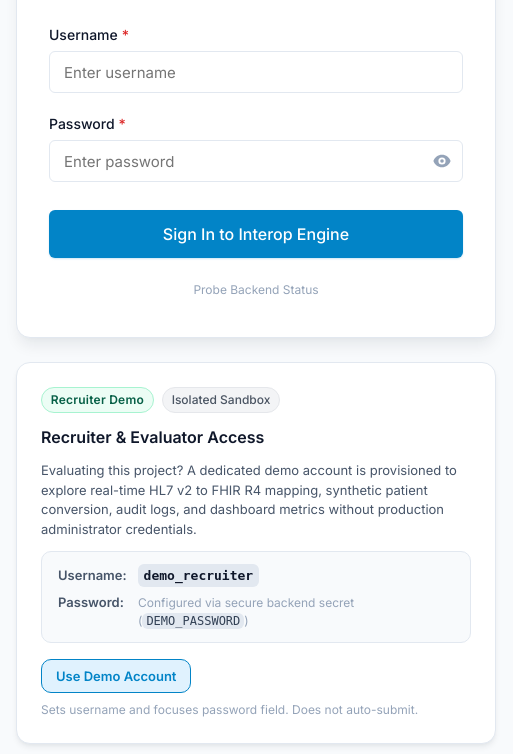
it: LoginPage › populates demo username without auto-submitting when Use Demo Account is clicked
The image size is (513, 754).
(page scrolled)
expect the field labelled "Username *" is empty: met, box [49,51,463,93]
Click the button "Use Demo Account". click: (116, 676)
box: [41,659,192,693]
(page scrolled)
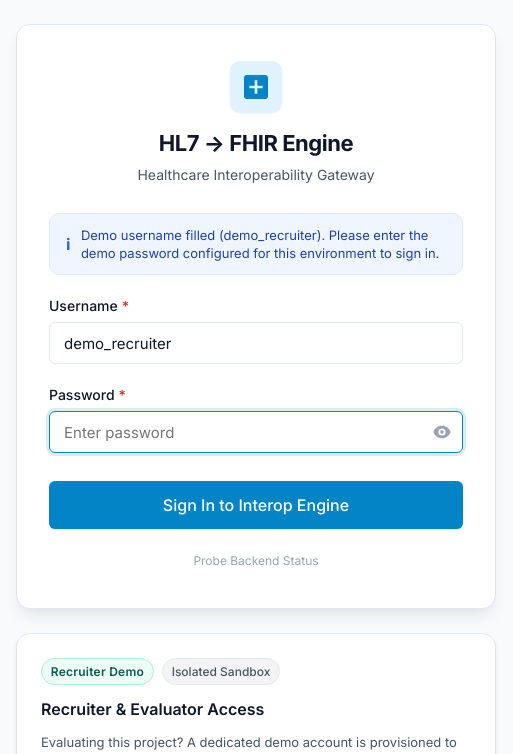
expect the password field labelled "Password *" is empty: met, box [49,411,463,453]
expect the field labelled "Username *" holds "demo_recruiter": met, box [49,322,463,364]
expect the text "Demo username filled (demo_recruiter)" is shown: met, box [81,227,439,261]
